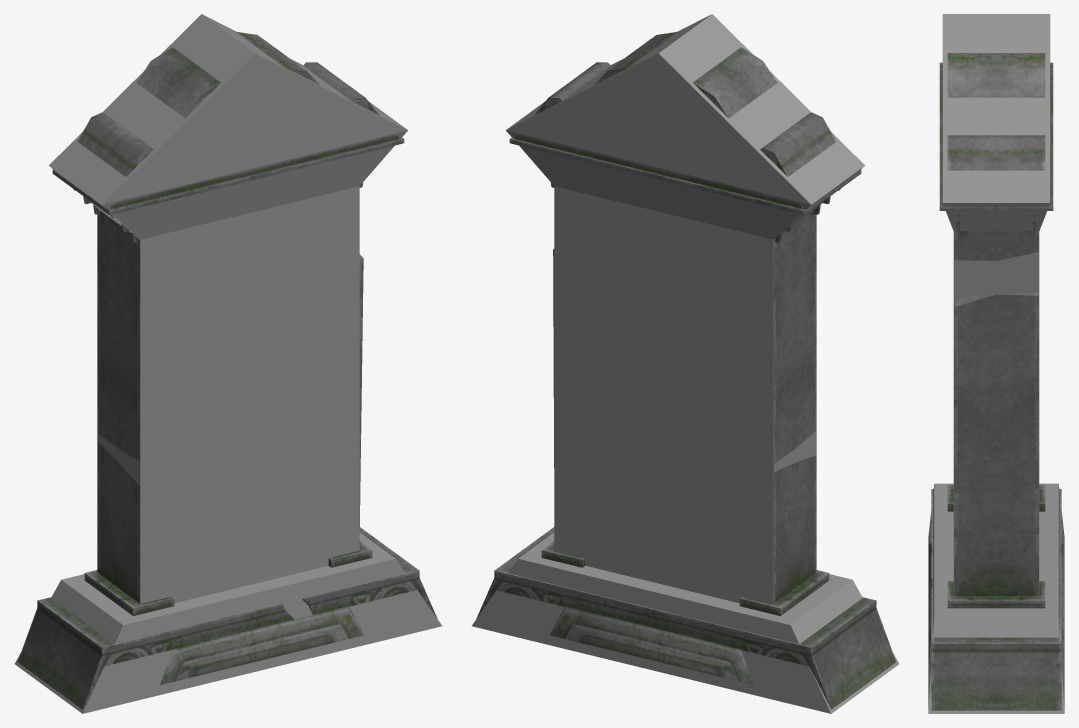
File: Scene_Object_ShiBei_1_02.FBX
The picture shows the model from 3 angles, left to right: view 1: azimuth 30°, elevation 25°; view 2: azimuth 150°, elevation 25°; view 3: azimuth 270°, elevation 25°; orthographic projection.
Visible parts, largest first — view 1: Scene_Object_ShiBei_1_Xzm, Scene_Object_ShiBei_1_02; view 2: Scene_Object_ShiBei_1_Xzm, Scene_Object_ShiBei_1_02; view 3: Scene_Object_ShiBei_1_02, Scene_Object_ShiBei_1_Xzm.
Part boxes in pixels (x1,y1,x2,y2): Scene_Object_ShiBei_1_Xzm: [14, 14, 441, 713]; Scene_Object_ShiBei_1_02: [18, 32, 437, 709]; Scene_Object_ShiBei_1_Xzm: [472, 14, 899, 713]; Scene_Object_ShiBei_1_02: [476, 32, 895, 709]; Scene_Object_ShiBei_1_02: [929, 53, 1063, 710]; Scene_Object_ShiBei_1_Xzm: [928, 14, 1064, 713].
Size of the model in its own units: 302 by 491 by 99.24.
